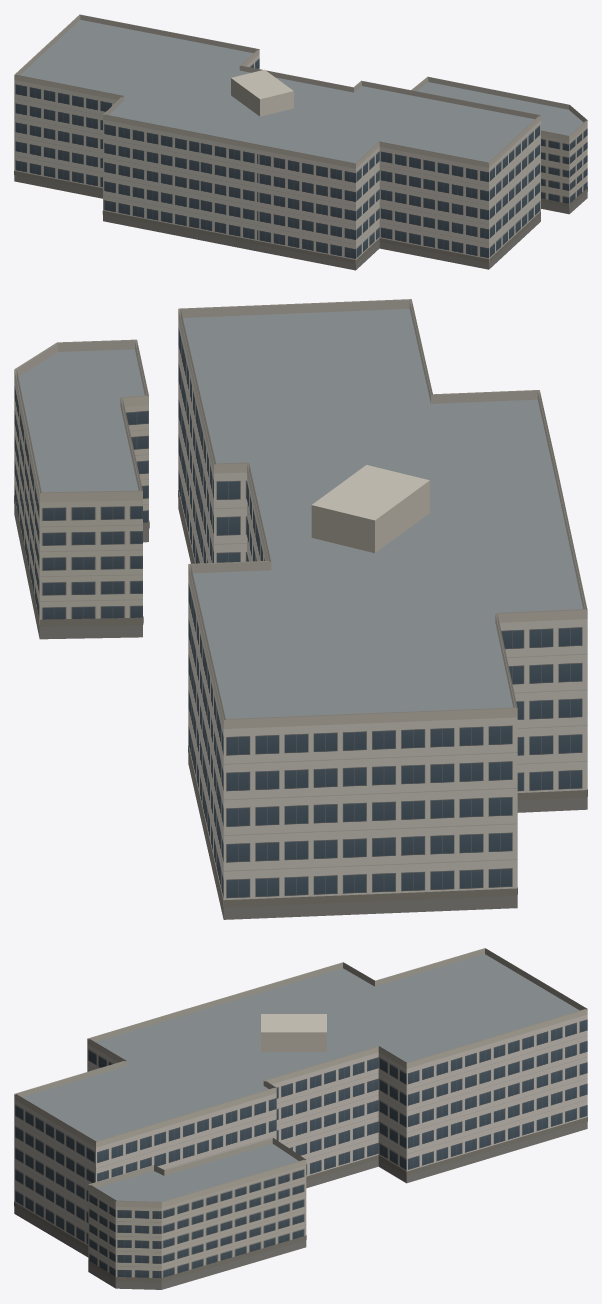
Rendered from namwon_cityhall.glb.
3 views of the same model, one above another, from view 1: azimuth 30°, elevation 25°; view 2: azimuth 150°, elevation 25°; view 3: azimuth 270°, elevation 25° (orthographic). The views are drawn at different scales.
Parts seen in each view (by area): view 1: namwon_cityhall; view 2: namwon_cityhall; view 3: namwon_cityhall.
Boxes of the visible parts, box(x1,y1,x2,y2) form: namwon_cityhall: box(14, 14, 587, 270); namwon_cityhall: box(14, 299, 587, 919); namwon_cityhall: box(14, 948, 587, 1289).
Size of the model in its own units: 97.61 by 27 by 105.
2 materials, 1 textured.
